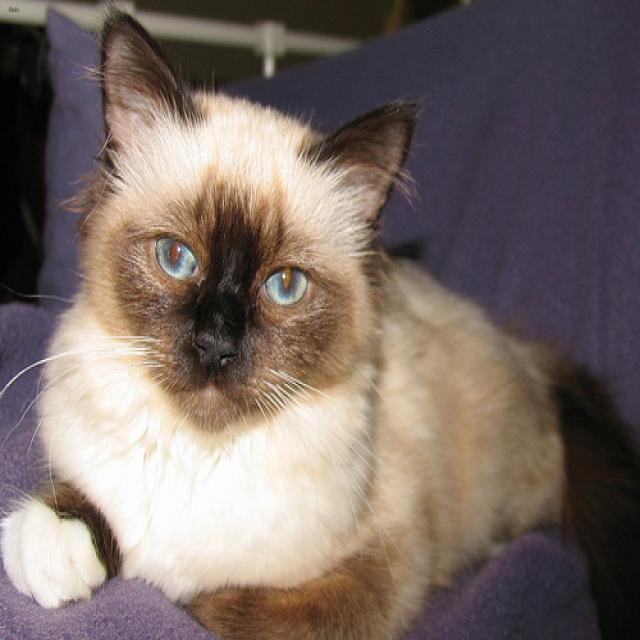Birman: (86, 8, 420, 473)
